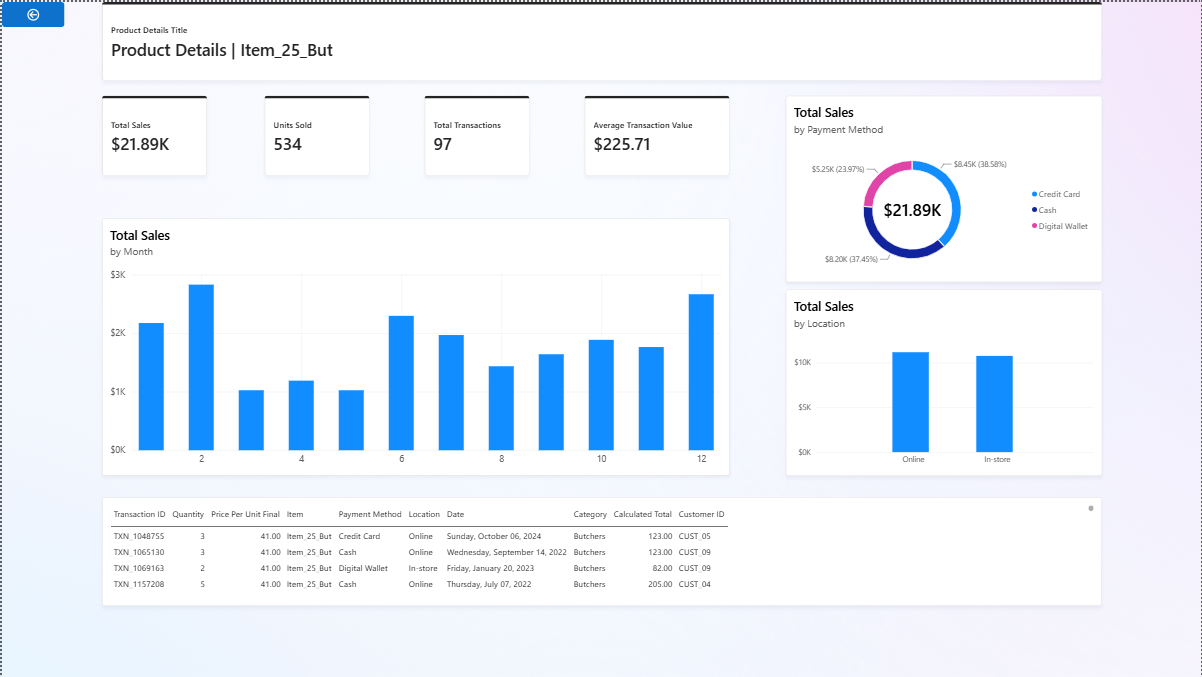

The page's visual inventory and layout, read from the dashboard file:
{"tool":"powerbi","page":{"name":"Product Details","canvas":[1920,1080],"ordinal":2},"visuals":[{"type":"actionButton","box":[0,0,100,40],"z":0},{"type":"cardVisual","fields":{"Data":["Fact_Sales.Product Details Title"]},"box":[160,0,1600,126],"z":1000},{"type":"cardVisual","fields":{"Data":["Fact_Sales.Total Sales"]},"box":[160,150,168,128],"z":2000},{"type":"cardVisual","fields":{"Data":["Fact_Sales.Units Sold"]},"box":[420,150,168,128],"z":3000},{"type":"cardVisual","fields":{"Data":["Fact_Sales.Total Transactions"]},"box":[676,150,168,128],"z":4000},{"type":"cardVisual","fields":{"Data":["Fact_Sales.Average Transaction Value"]},"box":[932,150,232,128],"z":5000},{"type":"donutChart","fields":{"Category":["Dim_Payment_Method.Payment Method"],"Y":["Fact_Sales.Total Sales"]},"box":[1254,150,506,298],"z":6000},{"type":"clusteredColumnChart","fields":{"Category":["Dim_Date.Month"],"Y":["Fact_Sales.Total Sales"]},"box":[160,346,1004,412],"z":7000},{"type":"clusteredColumnChart","fields":{"Category":["Dim_Location.Location"],"Y":["Fact_Sales.Total Sales"]},"box":[1254,460,506,298],"z":8000},{"type":"tableEx","fields":{"Values":["Fact_Sales.Transaction ID","Fact_Sales.Quantity","Fact_Sales.Price Per Unit Final","Dim_Product.Item","Dim_Payment_Method.Payment Method","Dim_Location.Location","Dim_Date.Date","Dim_Category.Category","Fact_Sales.Calculated Total","Dim_Customer.Customer ID"]},"box":[160,792,1600,174],"z":9000}]}

Visuals, with their boxes in screenshot pixels (x1, y1, x2, y2), scaled from the page's 1920x1080 canvas onto the 1202x677 screenshot:
actionButton: <region>0, 0, 63, 25</region>
cardVisual - Fact_Sales.Product Details Title: <region>100, 0, 1102, 79</region>
cardVisual - Fact_Sales.Total Sales: <region>100, 94, 205, 174</region>
cardVisual - Fact_Sales.Units Sold: <region>263, 94, 368, 174</region>
cardVisual - Fact_Sales.Total Transactions: <region>423, 94, 528, 174</region>
cardVisual - Fact_Sales.Average Transaction Value: <region>583, 94, 729, 174</region>
donutChart - Dim_Payment_Method.Payment Method x Fact_Sales.Total Sales: <region>785, 94, 1102, 281</region>
clusteredColumnChart - Dim_Date.Month x Fact_Sales.Total Sales: <region>100, 217, 729, 475</region>
clusteredColumnChart - Dim_Location.Location x Fact_Sales.Total Sales: <region>785, 288, 1102, 475</region>
tableEx - Fact_Sales.Transaction ID x Fact_Sales.Quantity: <region>100, 496, 1102, 606</region>
